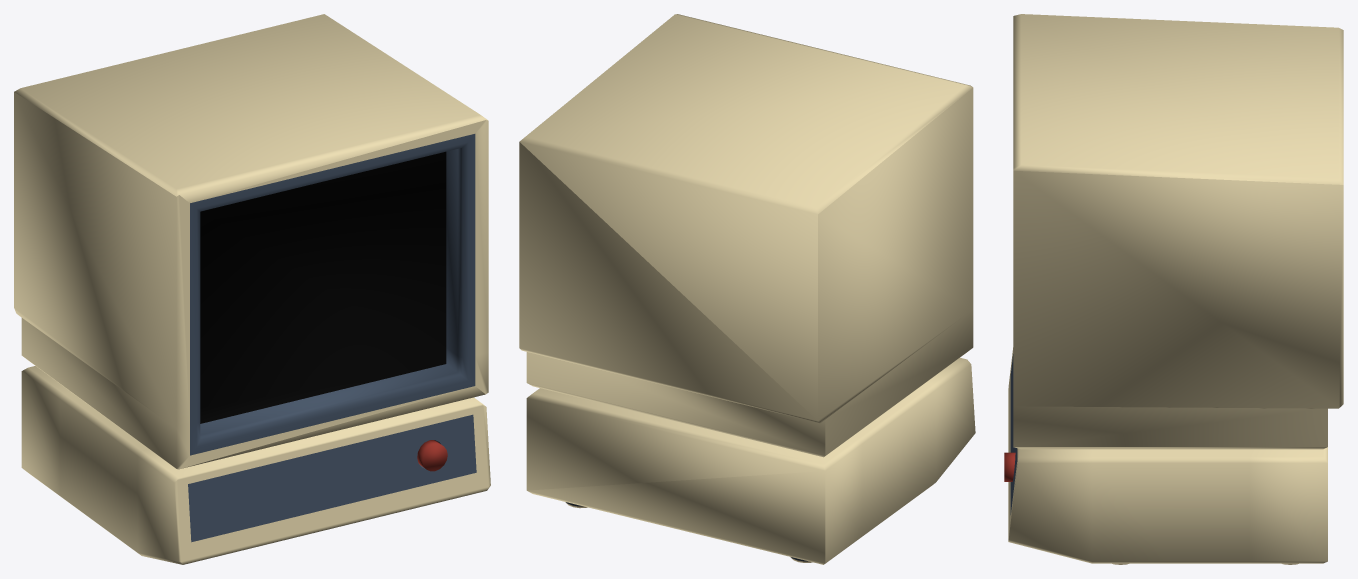
The model's file is RetroPC.fbx.
3 views of the same model, side by side, from view 1: azimuth 30°, elevation 25°; view 2: azimuth 150°, elevation 25°; view 3: azimuth 270°, elevation 25° (orthographic). The views are drawn at different scales.
Parts seen in each view (by area): view 1: Display.005; view 2: Display.005; view 3: Display.005.
Boxes of the visible parts, x1=… form: Display.005: x1=14, y1=14, x2=490, y2=564; Display.005: x1=519, y1=14, x2=975, y2=564; Display.005: x1=1004, y1=14, x2=1343, y2=564.
Bounding box in the file's own units: 2.33 × 2.88 × 2.16.
